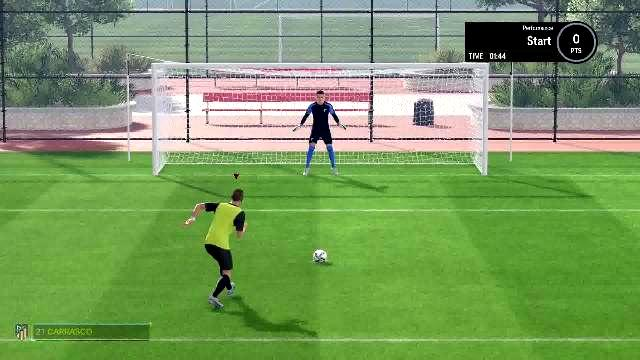bottom-left: (159, 130, 261, 176)
bottom-right: (372, 129, 480, 175)
center-down: (263, 130, 371, 176)
center-up: (262, 72, 370, 128)
circle: (312, 262, 328, 264)
football: (312, 248, 328, 264)
goalkeeper: (294, 86, 348, 178)
player: (180, 187, 250, 312)
top-left: (160, 72, 260, 128)
top-right: (372, 72, 480, 126)
